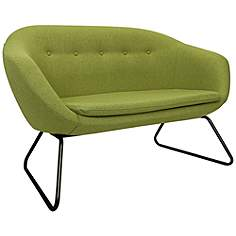chairs: (2, 21, 236, 214)
